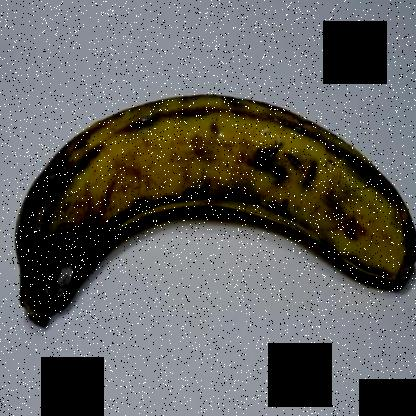overripe: (0, 66, 415, 341)
rotten: (8, 136, 122, 326)
